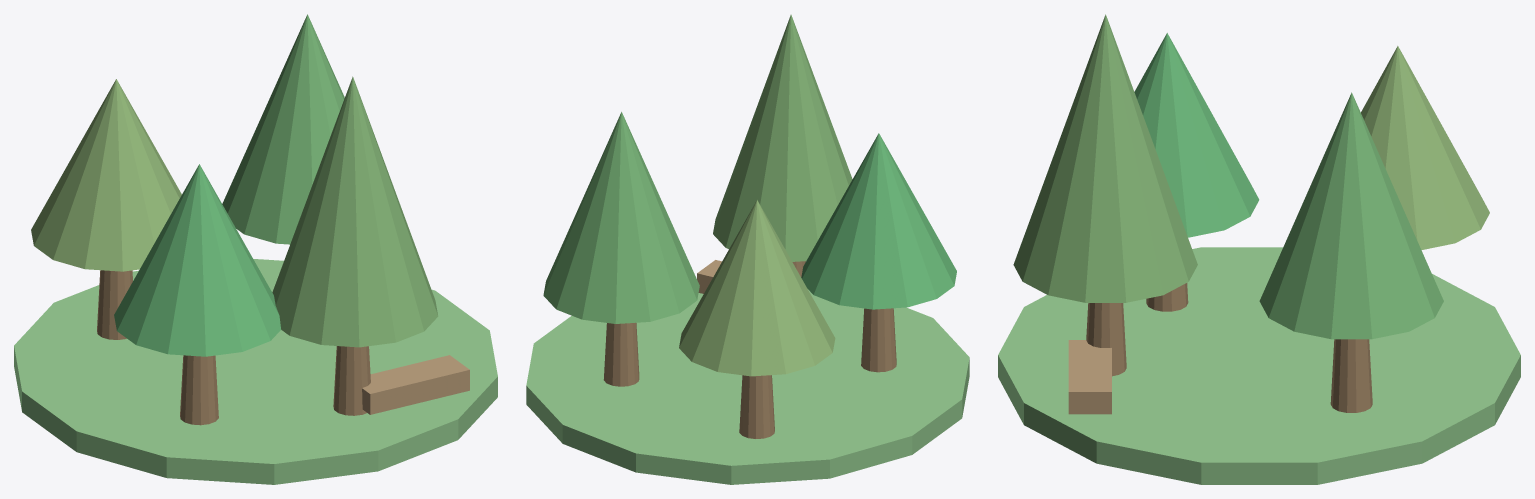
File: park.glb
The picture shows the model from 3 angles, left to right: view 1: azimuth 30°, elevation 25°; view 2: azimuth 150°, elevation 25°; view 3: azimuth 270°, elevation 25°; orthographic projection. The views are drawn at different scales.
Parts seen in each view (by area): view 1: cyl, cyl.006, cyl.002, cyl.008, cyl.004, box, cyl.001, cyl.005, cyl.007; view 2: cyl, cyl.004, cyl.006, cyl.008, cyl.002, cyl.001, cyl.003, cyl.007; view 3: cyl, cyl.006, cyl.004, cyl.008, cyl.002, box, cyl.003, cyl.005, cyl.001.
Boxes of the visible parts, x1,y1,x2,y2 form: cyl: [14, 259, 497, 484]; cyl.006: [272, 76, 438, 347]; cyl.002: [114, 164, 280, 356]; cyl.008: [31, 79, 181, 271]; cyl.004: [222, 14, 344, 244]; box: [362, 355, 469, 414]; cyl.001: [180, 355, 218, 425]; cyl.005: [333, 346, 370, 415]; cyl.007: [97, 270, 132, 339]; cyl: [526, 289, 969, 484]; cyl.004: [543, 112, 699, 323]; cyl.006: [713, 14, 852, 261]; cyl.008: [679, 200, 835, 376]; cyl.002: [801, 133, 956, 309]; cyl.001: [861, 308, 896, 372]; cyl.003: [603, 322, 639, 386]; cyl.007: [739, 375, 774, 438]; cyl: [998, 247, 1520, 484]; cyl.006: [1013, 14, 1197, 302]; cyl.004: [1259, 92, 1443, 339]; cyl.008: [1361, 46, 1489, 250]; cyl.002: [1134, 33, 1259, 237]; box: [1068, 340, 1111, 414]; cyl.003: [1330, 339, 1372, 412]; cyl.005: [1086, 303, 1126, 376]; cyl.001: [1146, 283, 1188, 311].
Size of the model in its own units: 1.66 by 1.35 by 1.7.
